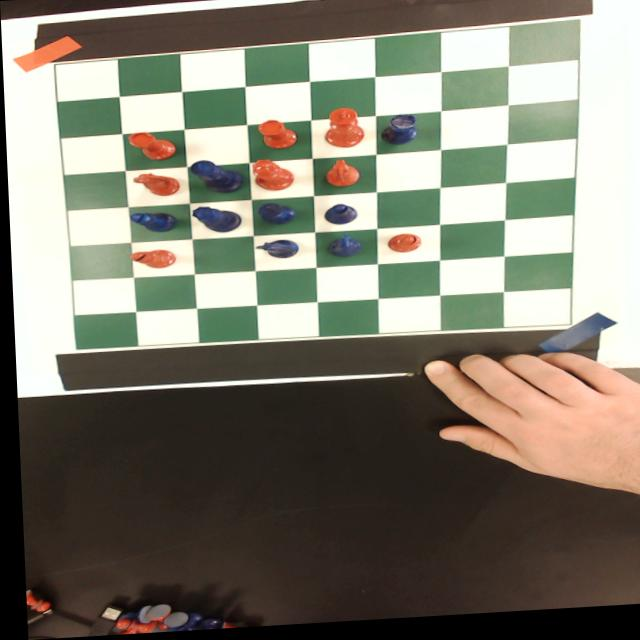B: (126, 211, 177, 235), (321, 205, 358, 228)
K: (187, 159, 244, 198)
N: (250, 238, 302, 264), (322, 235, 363, 262)
Q: (187, 205, 242, 237)
R: (377, 117, 420, 149), (255, 203, 294, 228)
b: (128, 250, 173, 270), (385, 236, 421, 257)
k: (321, 108, 366, 152)
n: (130, 172, 179, 199), (322, 161, 359, 190)
q: (248, 159, 293, 195)
r: (125, 131, 176, 162), (256, 120, 297, 152)
